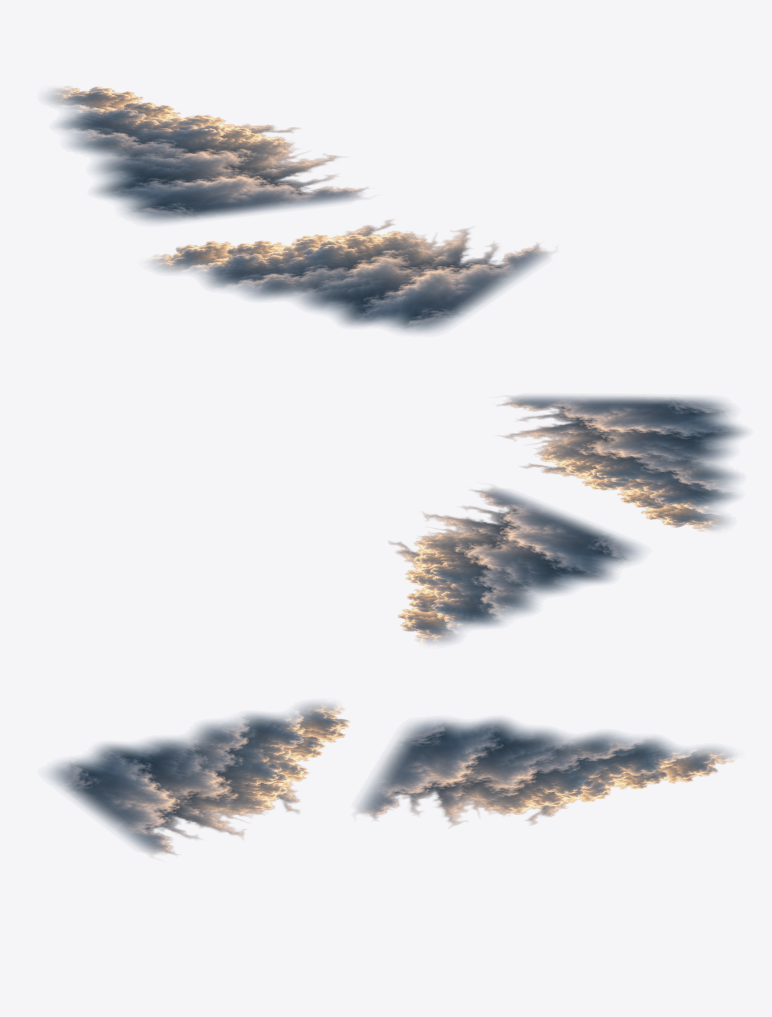
File: clouds.glb
The picture shows the model from 3 angles, top to bottom: view 1: azimuth 30°, elevation 25°; view 2: azimuth 150°, elevation 25°; view 3: azimuth 270°, elevation 25°; orthographic projection. The views are drawn at different scales.
Parts seen in each view (by area): view 1: Cloud passage 1 bank, Cloud passage 2 bank; view 2: Cloud passage 2 bank, Cloud passage 1 bank; view 3: Cloud passage 2 bank, Cloud passage 1 bank.
Part boxes in pixels (x1,y1,x2,y2): Cloud passage 1 bank: [46, 86, 368, 222]; Cloud passage 2 bank: [148, 219, 555, 333]; Cloud passage 2 bank: [497, 395, 745, 531]; Cloud passage 1 bank: [388, 485, 640, 644]; Cloud passage 2 bank: [48, 702, 349, 856]; Cloud passage 1 bank: [354, 718, 735, 827].
Bounding box in the file's own units: 211 × 0 × 210.
2 materials, 2 textured.
